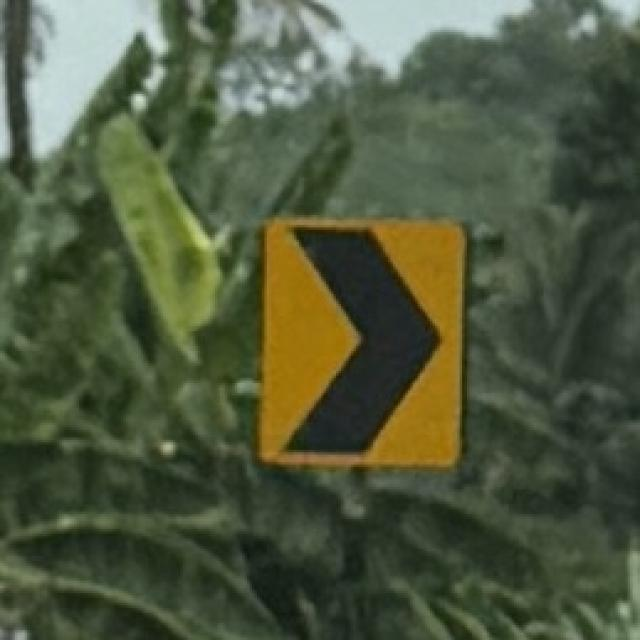TURN_RIGHT: (252, 213, 470, 474)
